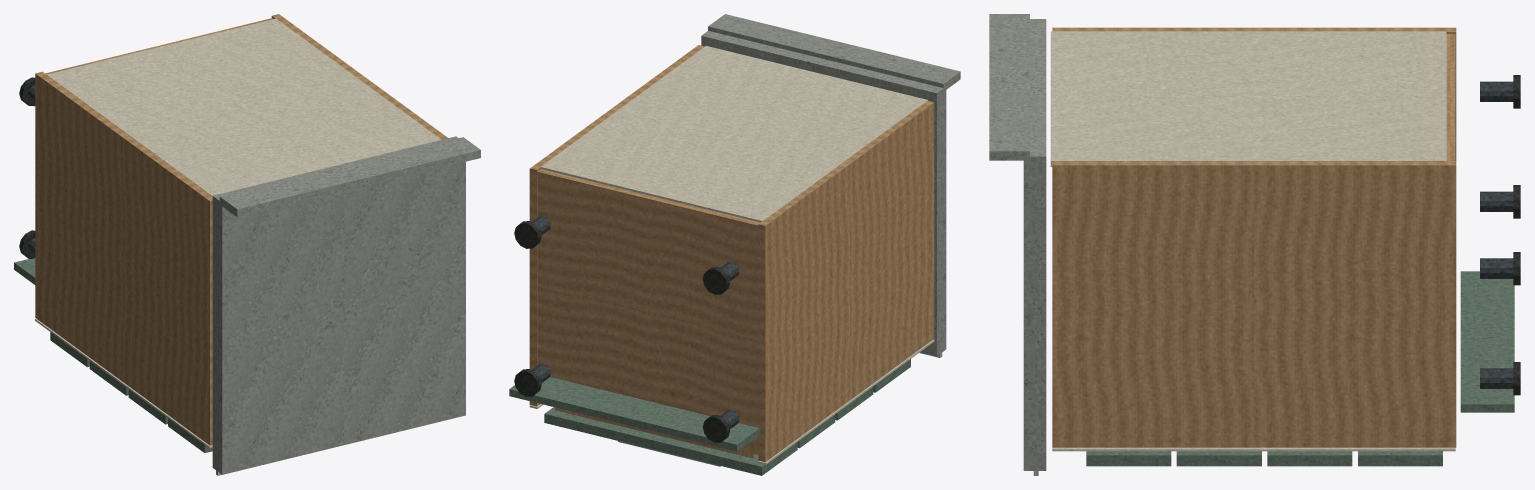
Rendered from PROJECT_Z_Kitchen_BaseDrawer600_Prefab.glb.
3 views of the same model, side by side, from view 1: azimuth 30°, elevation 25°; view 2: azimuth 150°, elevation 25°; view 3: azimuth 270°, elevation 25° (orthographic). The views are drawn at different scales.
Parts seen in each view (by area): view 1: BASE_DRAWER_600_QuartzWorktop, BASE_DRAWER_600_CarcassSide_L, BASE_DRAWER_600_CabinetBack, BASE_DRAWER_600_QuartzRearUpstand, BASE_DRAWER_600_CarcassSide_R, BASE_DRAWER_600_EdgeBand_L, BASE_DRAWER_600_CabinetBottom; view 2: BASE_DRAWER_600_CabinetBottom, BASE_DRAWER_600_CarcassSide_L, BASE_DRAWER_600_CabinetBack, BASE_DRAWER_600_QuartzWorktop, BASE_DRAWER_600_RecessedToeKick, BASE_DRAWER_600_QuartzRearUpstand, BASE_DRAWER_600_Drawer_01_Front, BASE_DRAWER_600_CarcassSide_R, BASE_DRAWER_600_Drawer_01_DrawerBottom, BASE_DRAWER_600_EdgeBand_L, BASE_DRAWER_600_Foot_R_0, BASE_DRAWER_600_Foot_L_0 (+2 smaller); view 3: BASE_DRAWER_600_CarcassSide_R, BASE_DRAWER_600_CabinetBack, BASE_DRAWER_600_QuartzWorktop, BASE_DRAWER_600_RecessedToeKick, BASE_DRAWER_600_QuartzRearUpstand, BASE_DRAWER_600_CarcassSide_L, BASE_DRAWER_600_EdgeBand_R, BASE_DRAWER_600_Drawer_02_Front, BASE_DRAWER_600_Drawer_03_Front, BASE_DRAWER_600_Drawer_04_Front, BASE_DRAWER_600_Drawer_01_Front, BASE_DRAWER_600_CabinetBottom (+4 smaller).
Part boxes in pixels (<box>): BASE_DRAWER_600_QuartzWorktop: <box>212,136,465,474</box>; BASE_DRAWER_600_CarcassSide_L: <box>35,71,212,445</box>; BASE_DRAWER_600_CabinetBack: <box>46,18,441,195</box>; BASE_DRAWER_600_QuartzRearUpstand: <box>219,137,480,217</box>; BASE_DRAWER_600_CarcassSide_R: <box>271,14,448,139</box>; BASE_DRAWER_600_EdgeBand_L: <box>35,319,212,448</box>; BASE_DRAWER_600_CabinetBottom: <box>45,18,273,74</box>; BASE_DRAWER_600_CabinetBottom: <box>537,169,759,454</box>; BASE_DRAWER_600_CarcassSide_L: <box>758,101,934,462</box>; BASE_DRAWER_600_CabinetBack: <box>541,46,928,222</box>; BASE_DRAWER_600_QuartzWorktop: <box>701,31,946,356</box>; BASE_DRAWER_600_RecessedToeKick: <box>509,377,759,451</box>; BASE_DRAWER_600_QuartzRearUpstand: <box>708,14,960,91</box>; BASE_DRAWER_600_Drawer_01_Front: <box>544,407,797,475</box>; BASE_DRAWER_600_CarcassSide_R: <box>529,45,704,406</box>; BASE_DRAWER_600_Drawer_01_DrawerBottom: <box>555,407,756,458</box>; BASE_DRAWER_600_EdgeBand_L: <box>758,339,934,464</box>; BASE_DRAWER_600_Foot_R_0: <box>514,369,541,396</box>; BASE_DRAWER_600_Foot_L_0: <box>702,415,730,442</box>; BASE_DRAWER_600_CarcassSide_R: <box>1052,161,1456,447</box>; BASE_DRAWER_600_CabinetBack: <box>1050,31,1446,166</box>; BASE_DRAWER_600_QuartzWorktop: <box>1023,19,1046,470</box>; BASE_DRAWER_600_RecessedToeKick: <box>1460,271,1514,412</box>; BASE_DRAWER_600_QuartzRearUpstand: <box>989,14,1029,160</box>; BASE_DRAWER_600_CarcassSide_L: <box>1052,27,1456,160</box>; BASE_DRAWER_600_EdgeBand_R: <box>1052,447,1455,451</box>; BASE_DRAWER_600_Drawer_02_Front: <box>1267,451,1352,466</box>; BASE_DRAWER_600_Drawer_03_Front: <box>1176,451,1261,466</box>; BASE_DRAWER_600_Drawer_04_Front: <box>1086,451,1171,466</box>; BASE_DRAWER_600_Drawer_01_Front: <box>1358,451,1442,466</box>; BASE_DRAWER_600_CabinetBottom: <box>1446,34,1455,160</box>.
Size of the model in its own units: 0.602 by 0.692 by 0.9805.
Materials: 8 (8 with a texture image).
